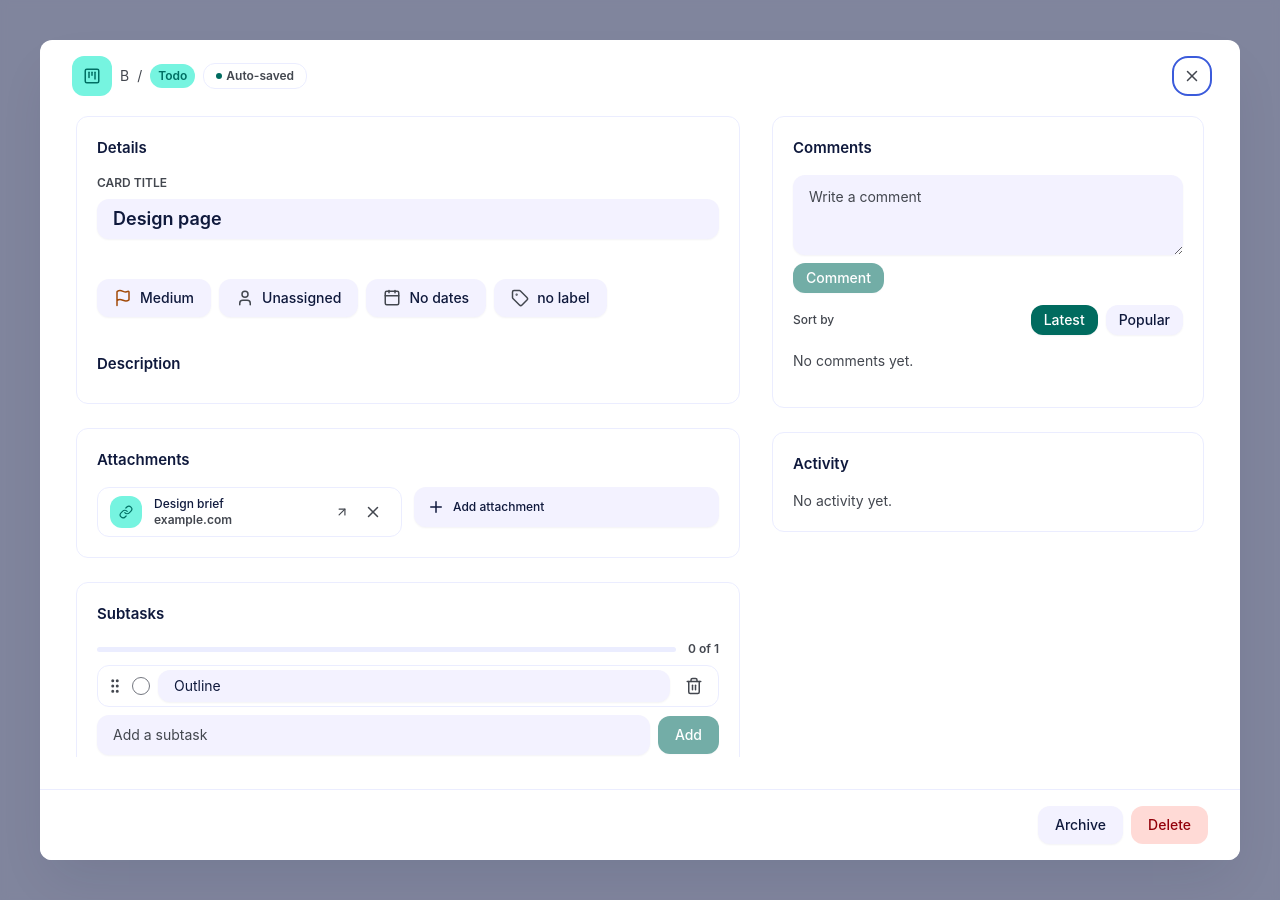
Test: CardModal Auto_Save › sends no request for an empty title and says so beside the field
Step 1. Clear the field named "Title" → (408,219), box [97,199,719,239]
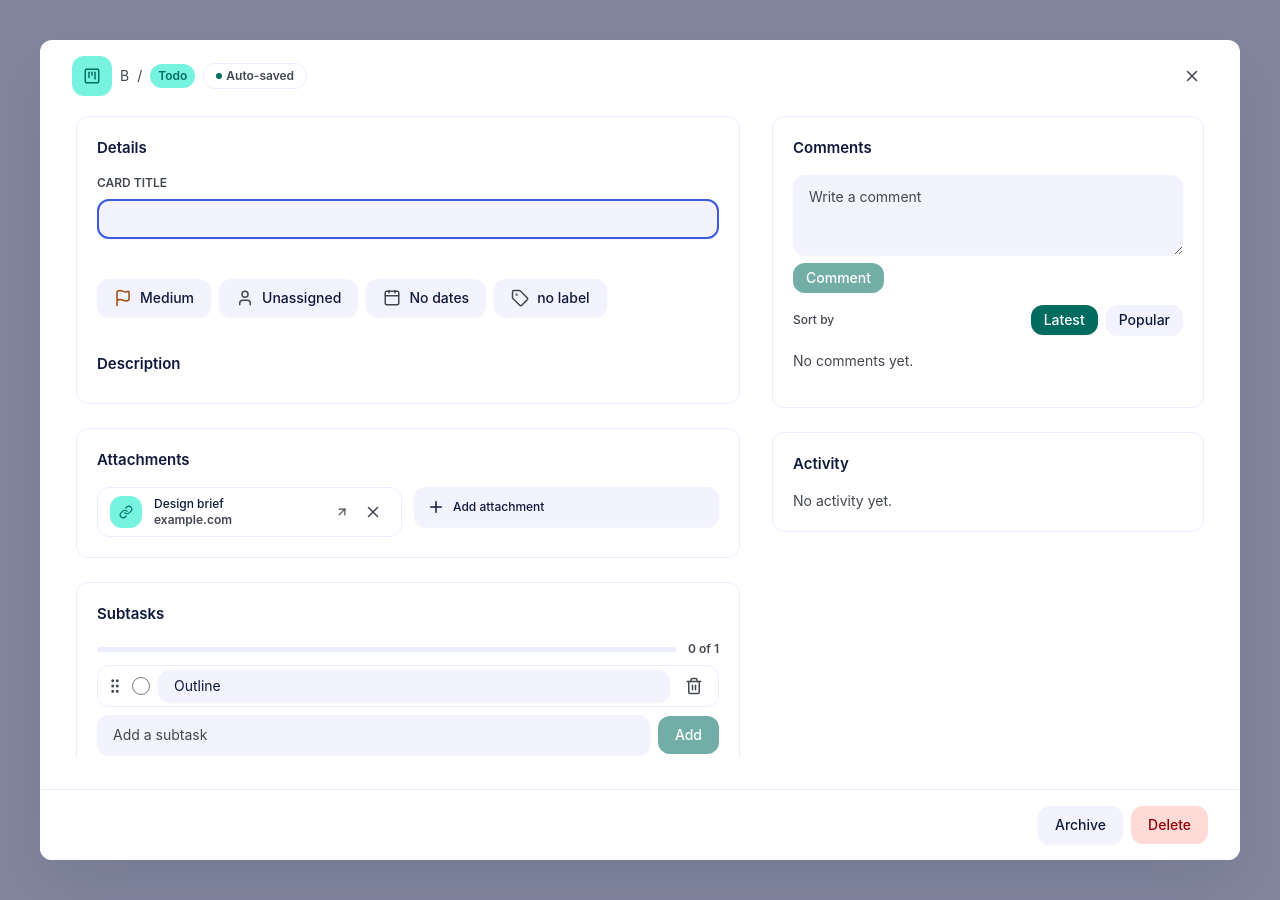
Step 2. Press Tab
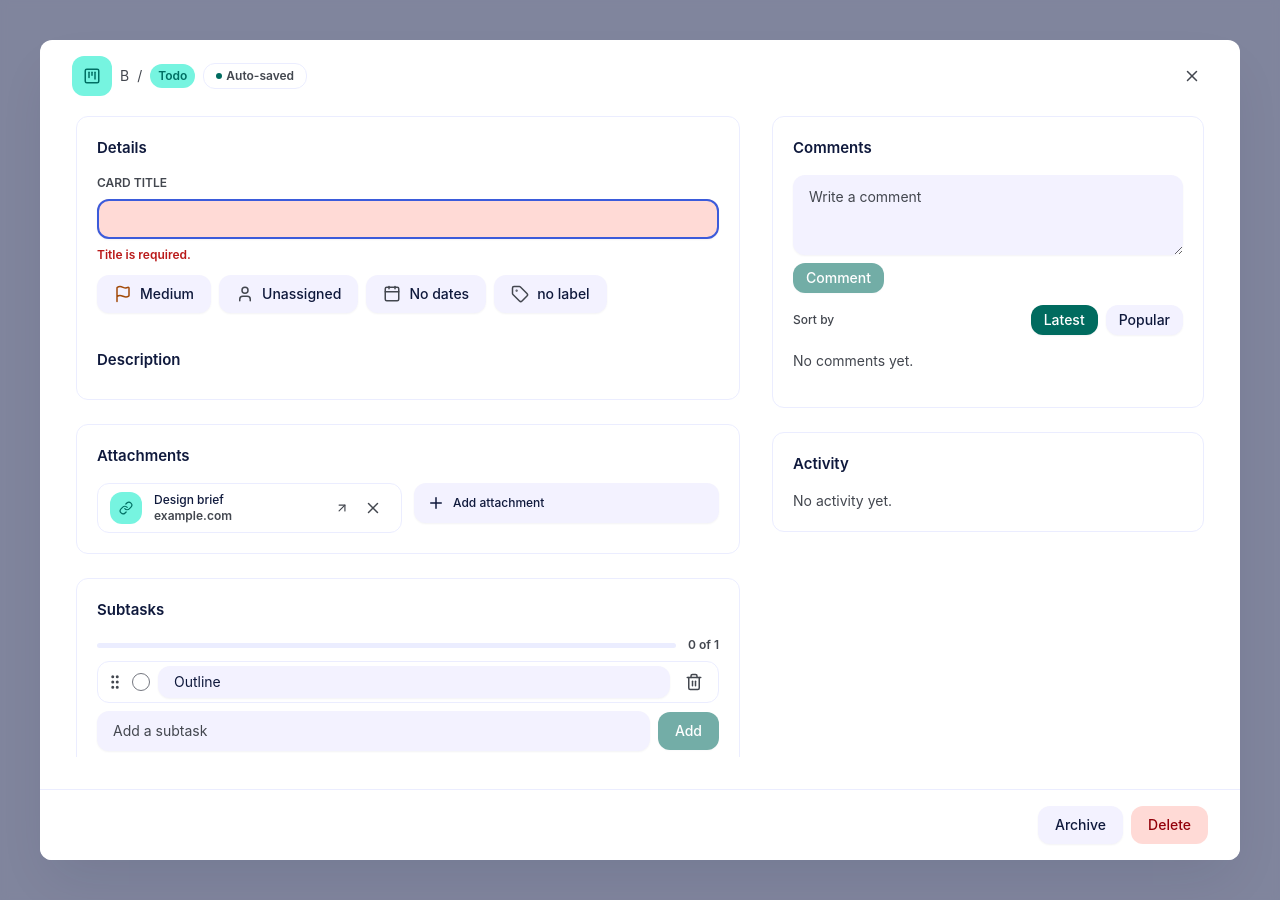
Result: the text "Title is required." is shown at [97,247,191,262]
